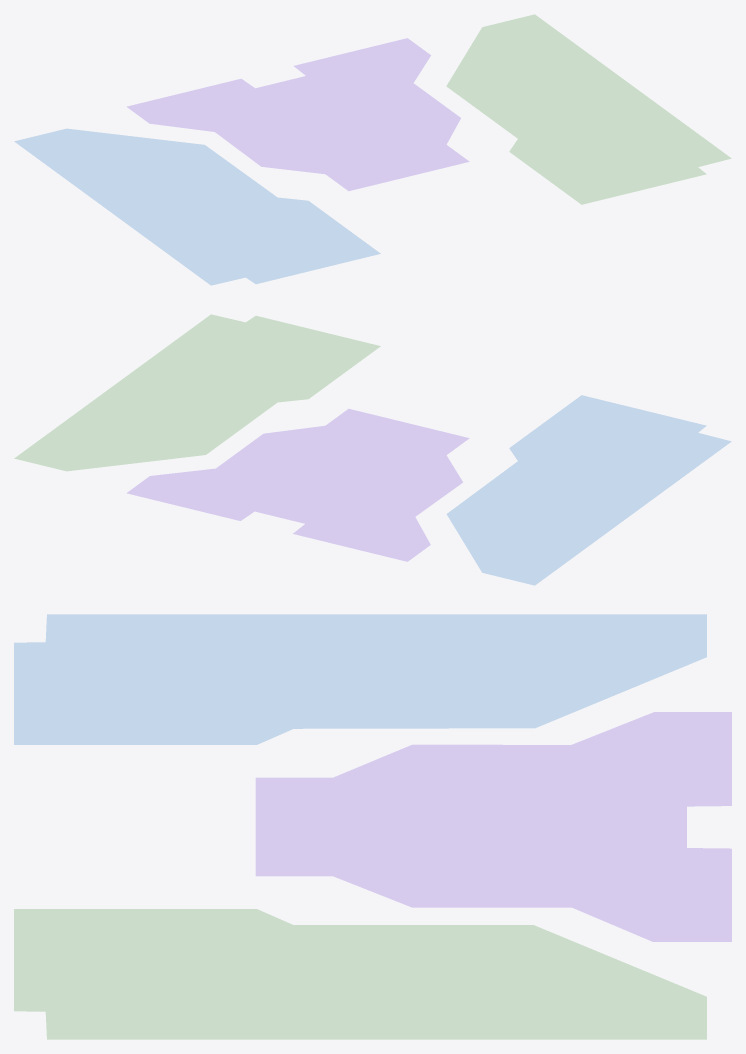
Rendered from guides.glb.
3 views of the same model, one above another, from view 1: azimuth 30°, elevation 25°; view 2: azimuth 150°, elevation 25°; view 3: azimuth 270°, elevation 25° (orthographic). The views are drawn at different scales.
Parts seen in each view (by area): view 1: ZoneGuide_3_TBS, ZoneGuide_1_SSET, ZoneGuide_2_SCD; view 2: ZoneGuide_3_TBS, ZoneGuide_1_SSET, ZoneGuide_2_SCD; view 3: ZoneGuide_3_TBS, ZoneGuide_1_SSET, ZoneGuide_2_SCD.
Boxes of the visible parts, x1,y1,x2,y2 form: ZoneGuide_3_TBS: (447,14,730,204); ZoneGuide_1_SSET: (15,129,380,285); ZoneGuide_2_SCD: (127,38,468,190); ZoneGuide_3_TBS: (15,314,380,470); ZoneGuide_1_SSET: (447,395,730,585); ZoneGuide_2_SCD: (127,409,468,561); ZoneGuide_3_TBS: (14,909,706,1039); ZoneGuide_1_SSET: (14,614,706,744); ZoneGuide_2_SCD: (256,712,731,941).
Size of the model in its own units: 40.87 by 2.89e-06 by 29.14.
